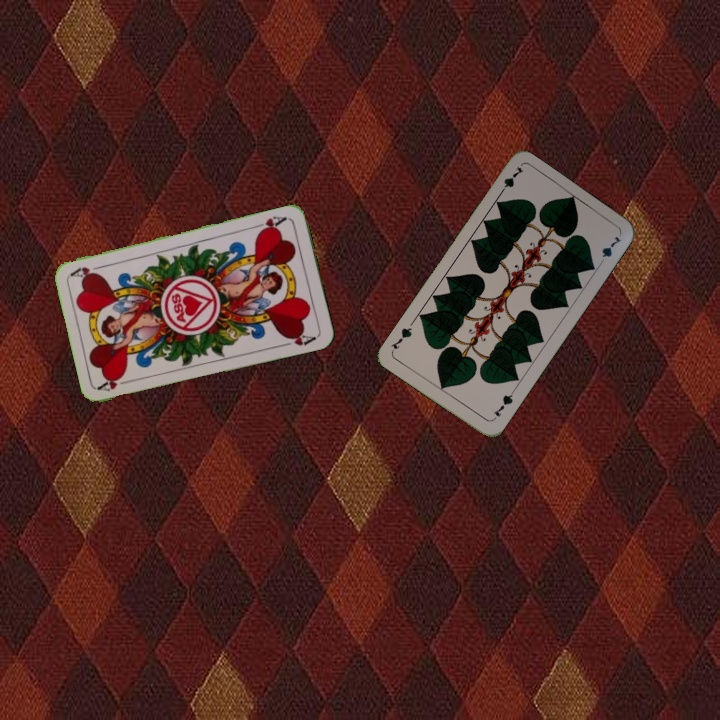G7: (495, 162, 526, 198), (489, 387, 516, 423)
HA: (250, 212, 291, 235), (95, 372, 135, 394)
